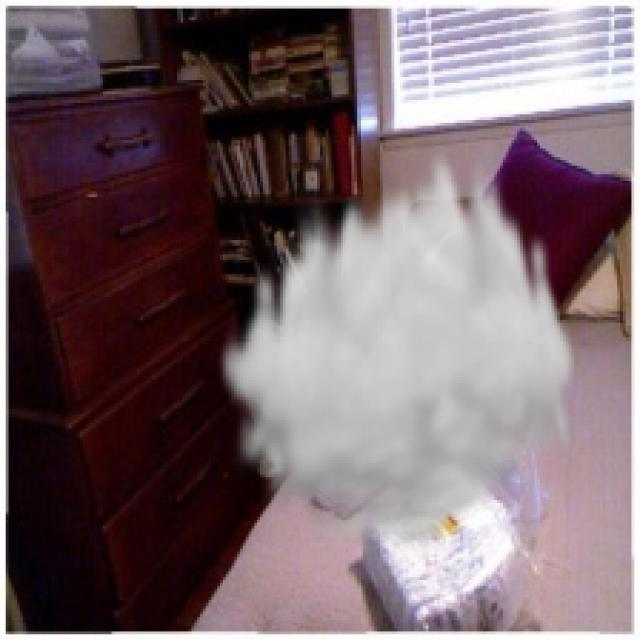Smoke: (215, 137, 580, 557)
